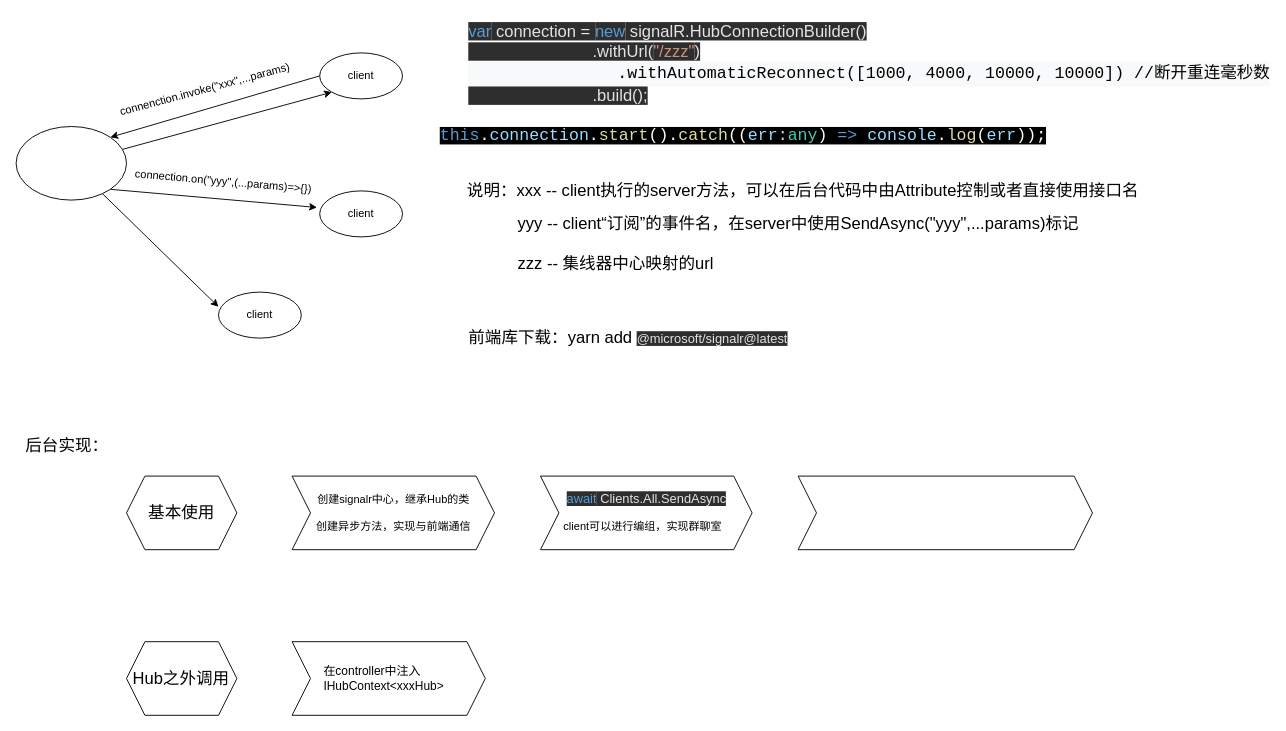
Image size: 1286x731. Some labels were removed from this diagram. Here are the shapes that lost their labels. From the top down, the centre of each, then its label:
pixel 70 163: server
pixel 944 512: 注册服务 映射URL services.AddSignalR(); endpoints.MapHub<ChatHub>( "/chathub" );
